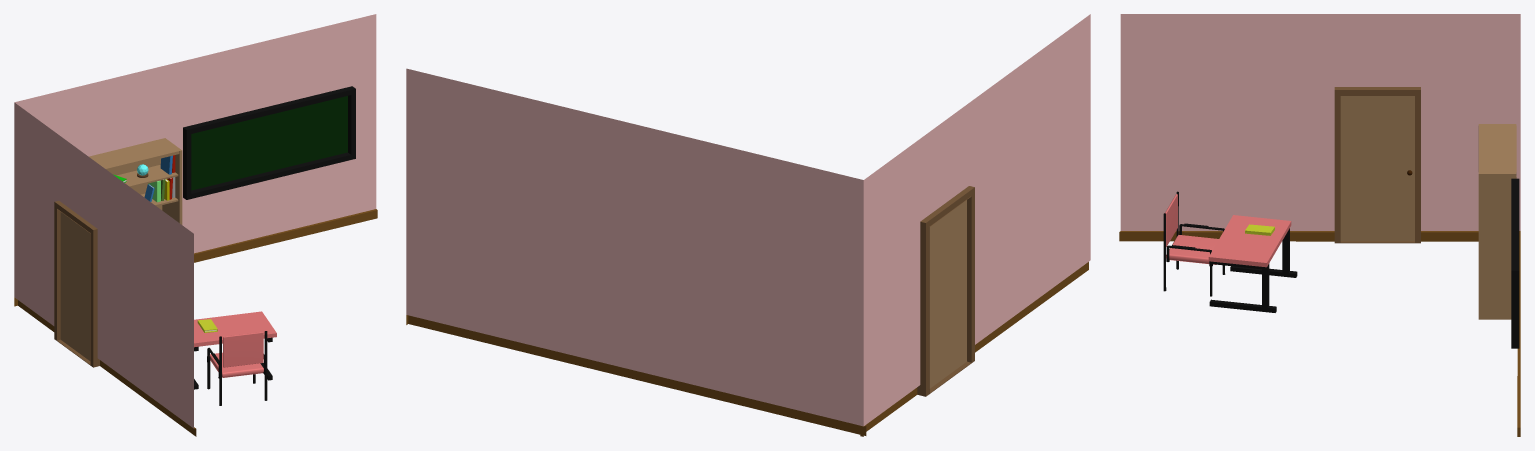
File: Classroom2.fbx
The picture shows the model from 3 angles, left to right: view 1: azimuth 30°, elevation 25°; view 2: azimuth 150°, elevation 25°; view 3: azimuth 270°, elevation 25°; orthographic projection. The views are drawn at different scales.
Parts seen in each view (by area): view 1: DESK2, DESK2.001, Board_Chalk, Shelf_Book, Door Main, Door Out, CHAİR2.001, DESK2.003; view 2: DESK2, DESK2.001, Door Main, Door Out; view 3: DESK2.001, Door Main, Shelf_Book, DESK2.003, Door Out, CHAİR2.001, Board_Chalk, DESK2.
Part boxes in pixels (x1,y1,x2,y2): DESK2: (14,14,377,306); DESK2.001: (14,102,196,436); Board_Chalk: (183,86,355,199); Shelf_Book: (89,138,182,224); Door Main: (60,212,90,360); Door Out: (54,200,99,367); CHAİR2.001: (207,331,267,405); DESK2.003: (194,311,276,389); DESK2: (406,68,866,435); DESK2.001: (860,14,1090,436); Door Main: (929,200,966,388); Door Out: (917,186,974,396); DESK2.001: (1119,14,1520,241); Door Main: (1340,96,1414,240); Shelf_Book: (1478,124,1516,319); DESK2.003: (1208,215,1297,312); Door Out: (1334,87,1420,243); CHAİR2.001: (1163,191,1225,296); Board_Chalk: (1511,178,1519,348); DESK2: (1517,231,1520,436).
Bounding box in the file's own units: 36.29 × 19.34 × 30.89.
